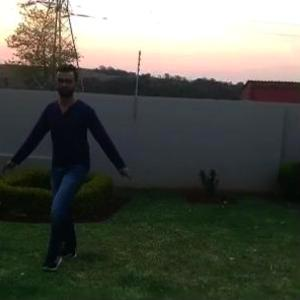land: (16, 63, 135, 261)
